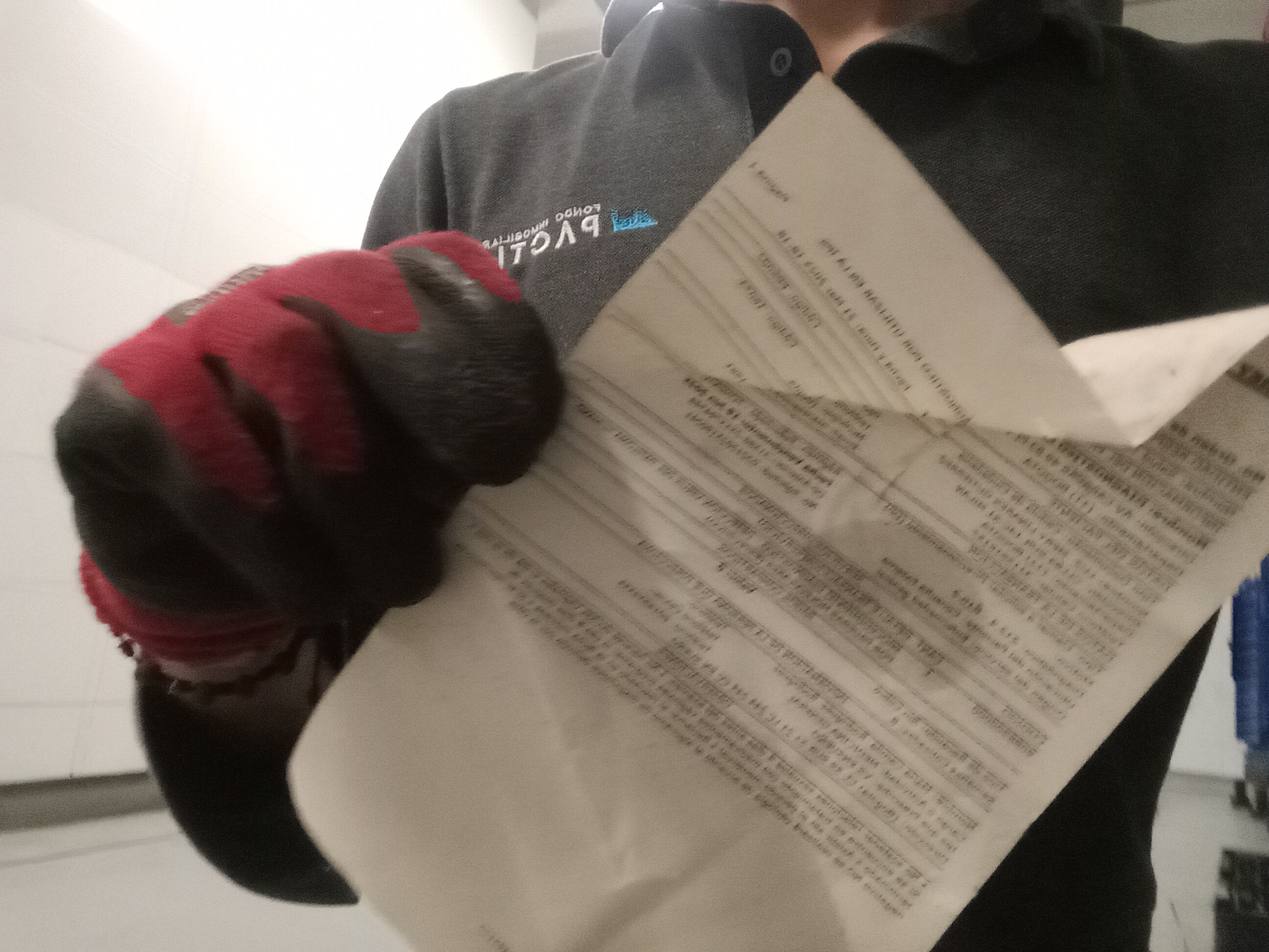Papel: (292, 74, 1269, 952)
